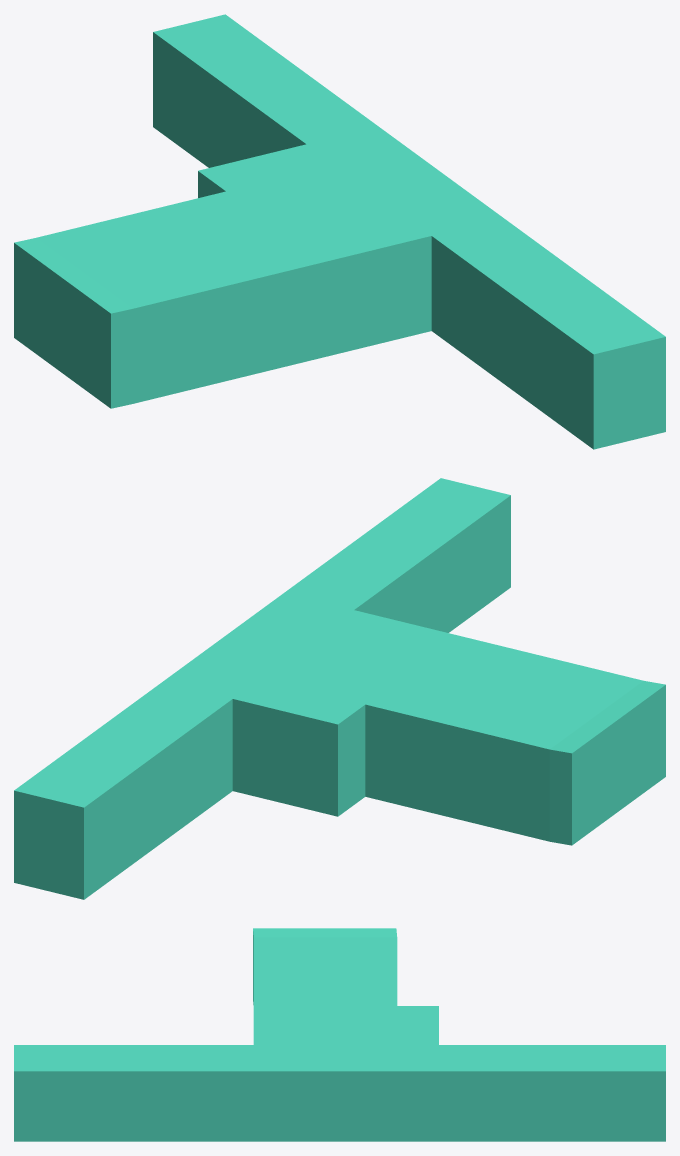
The picture shows the model from 3 angles, top to bottom: view 1: azimuth 30°, elevation 25°; view 2: azimuth 150°, elevation 25°; view 3: azimuth 270°, elevation 25°; orthographic projection. The views are drawn at different scales.
Visible parts, largest first — view 1: Apartamento; view 2: Apartamento; view 3: Apartamento.
Boxes of the visible parts, box(x1,y1,x2,y2) form: Apartamento: box(14, 14, 665, 449); Apartamento: box(14, 478, 665, 899); Apartamento: box(14, 928, 665, 1141).
Size of the model in its own units: 13.65 by 3.19 by 26.45.
